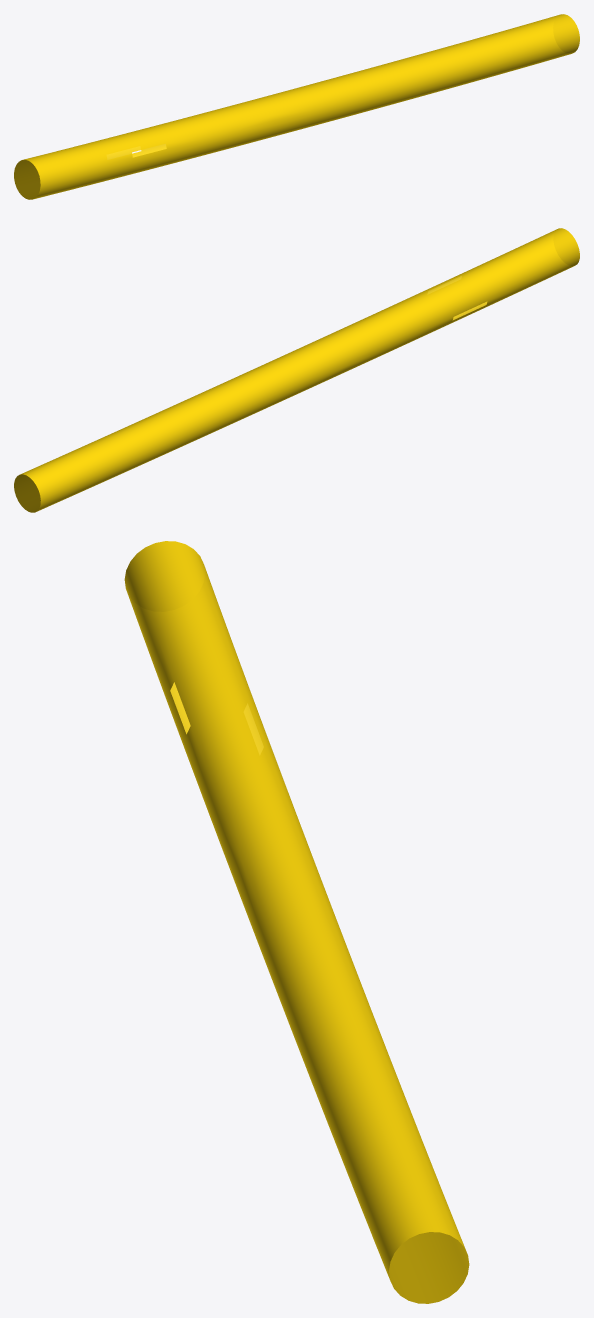
File: Event_421115418_track_84.fbx
3 renders of one model, top to bottom at view 1: azimuth 30°, elevation 25°; view 2: azimuth 210°, elevation 25°; view 3: azimuth 270°, elevation 25°, orthographic. The views are drawn at different scales.
Visible parts, largest first — view 1: Model; view 2: Model; view 3: Model.
Boxes of the visible parts, x1=… form: Model: x1=14, y1=14, x2=579, y2=199; Model: x1=14, y1=228, x2=579, y2=512; Model: x1=124, y1=541, x2=469, y2=1303.
Size of the model in its own units: 0.6904 by 0.0941 by 0.1683.
